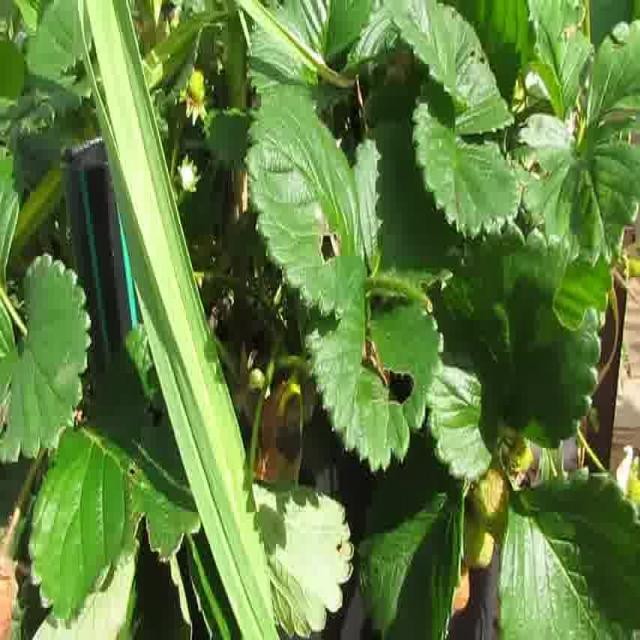Fruta sana: (469, 464, 516, 551), (456, 491, 496, 572), (1, 529, 19, 640), (444, 556, 472, 617), (502, 438, 536, 474)
